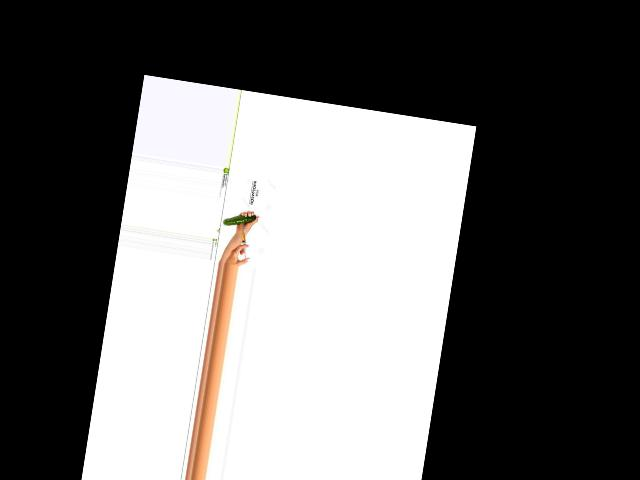cucumber: (222, 210, 256, 230)
